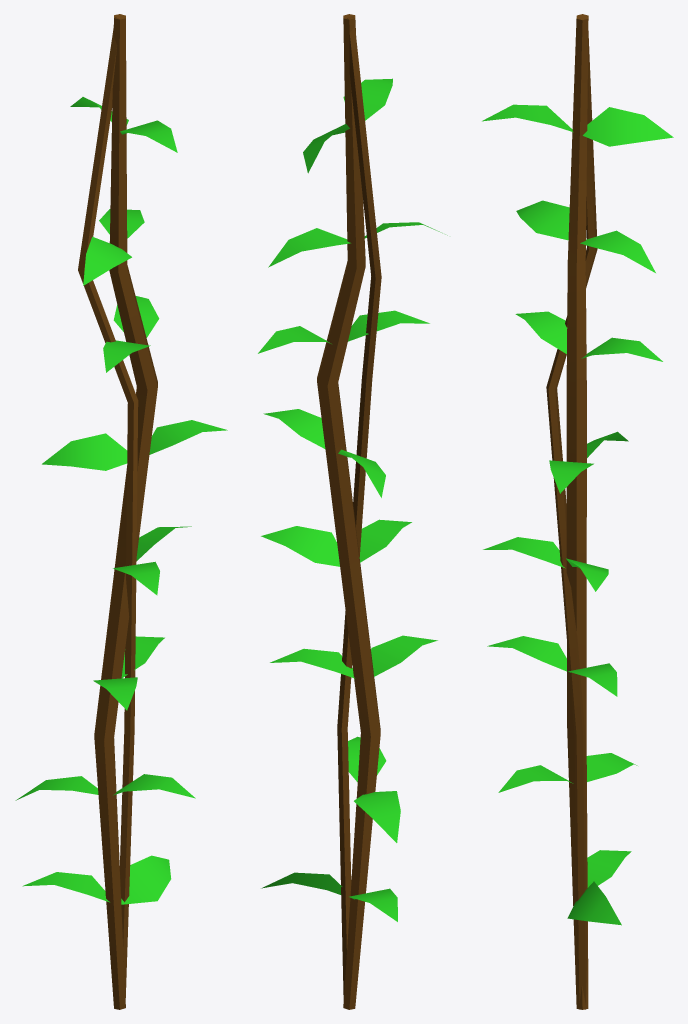
File: Liane_2.FBX
The picture shows the model from 3 angles, left to right: view 1: azimuth 30°, elevation 25°; view 2: azimuth 150°, elevation 25°; view 3: azimuth 270°, elevation 25°; orthographic projection.
Visible parts, largest first — view 1: Liane_Un; view 2: Liane_Un; view 3: Liane_Un.
Part boxes in pixels (x1,y1,x2,y2): Liane_Un: (15,14,227,1009); Liane_Un: (258,14,447,1009); Liane_Un: (482,14,673,1009).
Bounding box in the file's own units: 135 × 735 × 130.
